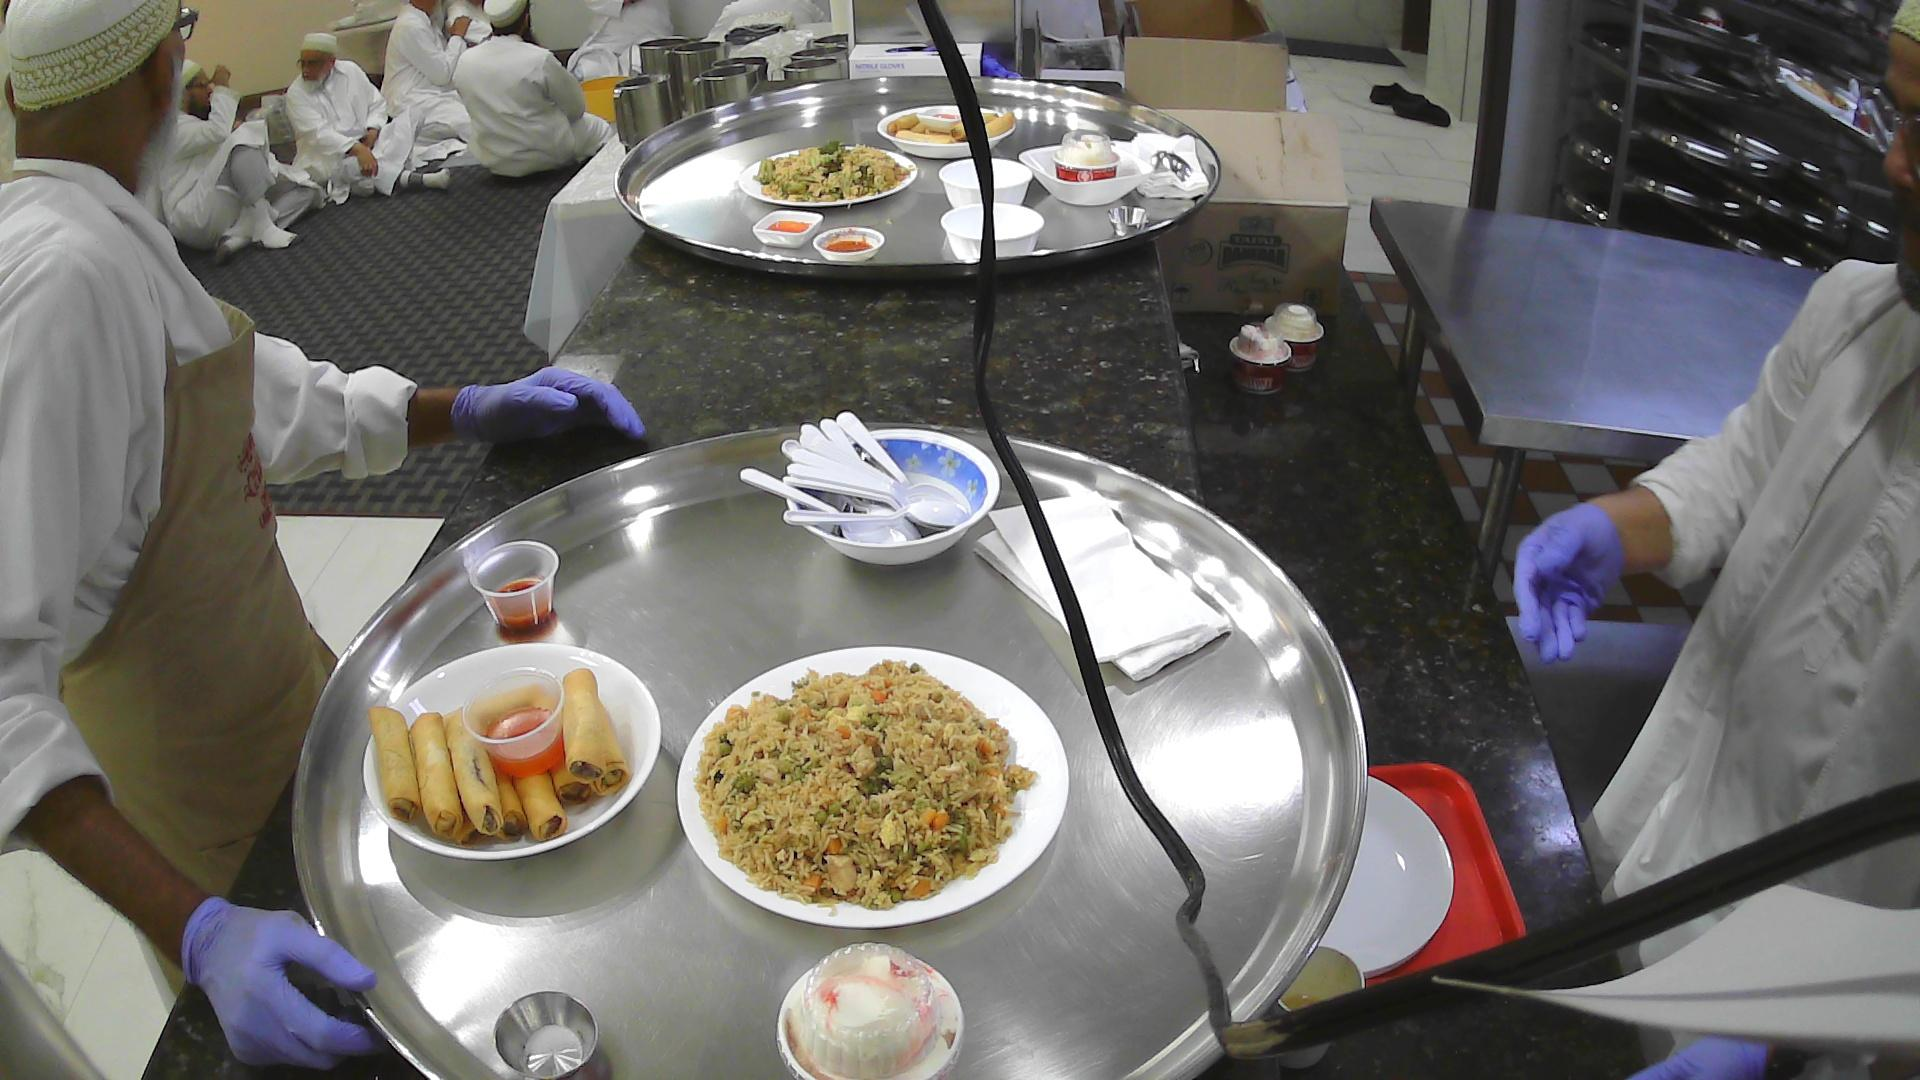thaal: (286, 415, 1375, 1080), (615, 69, 1224, 289)
